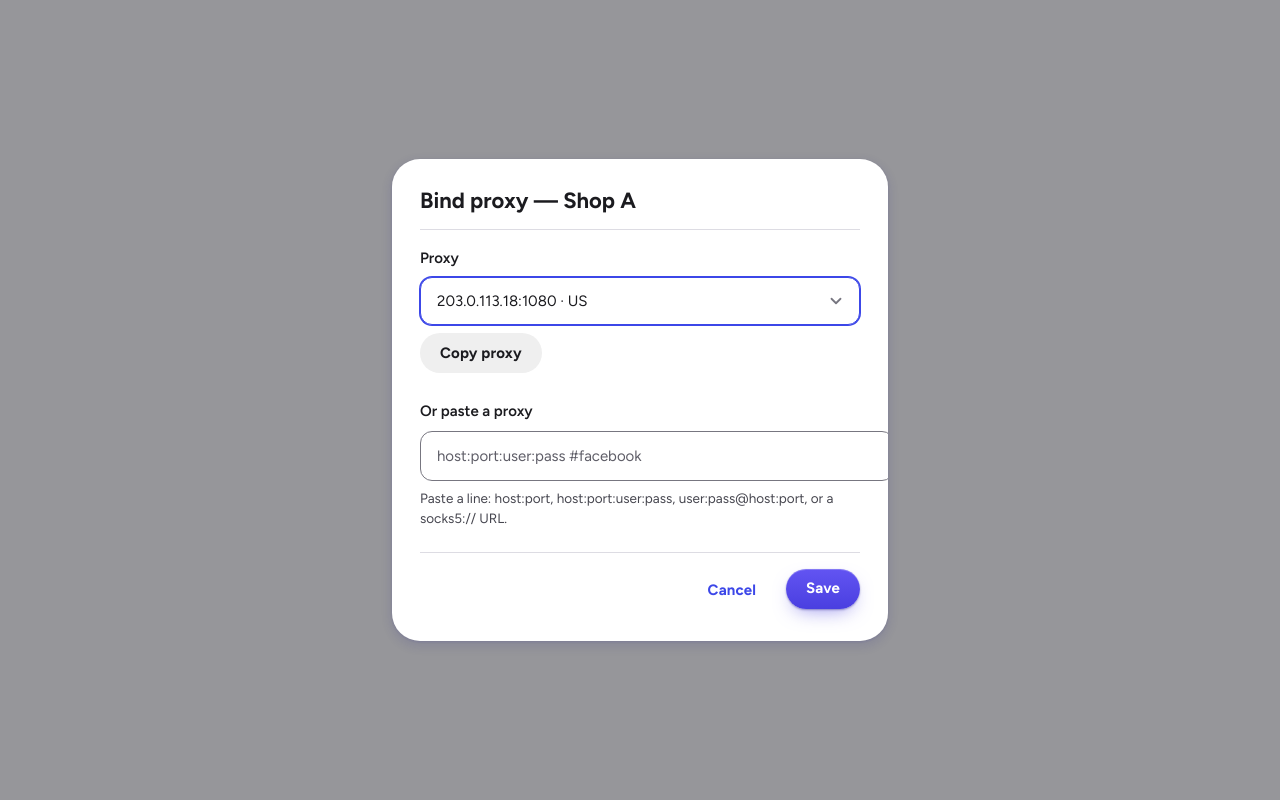
Scenario: QuickEditDialog › blocks Save on a line that is not a proxy
This screenshot has width=1280, height=800.
Type "not a proxy" into the field labelled "Or paste a proxy". click: (657, 456)
box: [420,431,894,481]
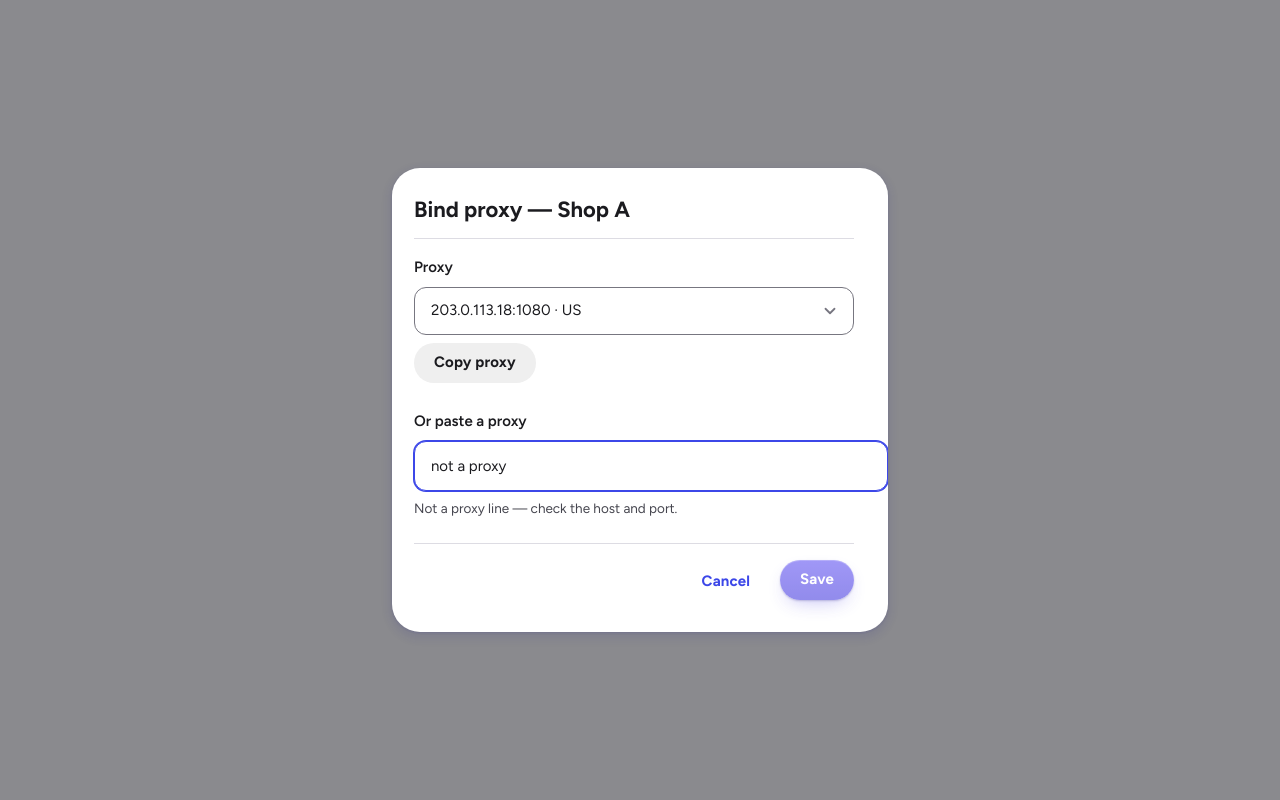
Check: the message shows "Not a proxy line", box [414,500,677,516]
Check: the button "Save" is disabled, box [780,560,854,600]
